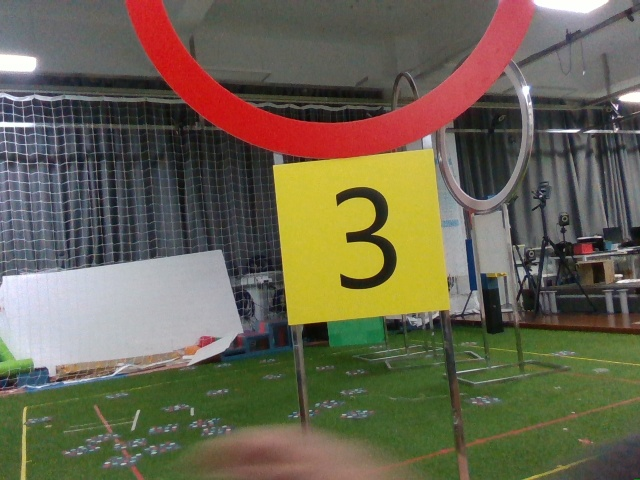target: (286, 163, 436, 313)
